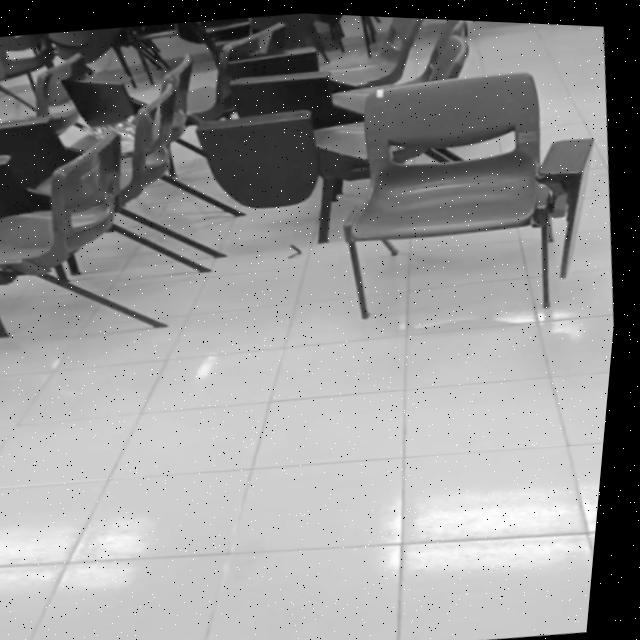sandalye: (318, 68, 557, 315)
